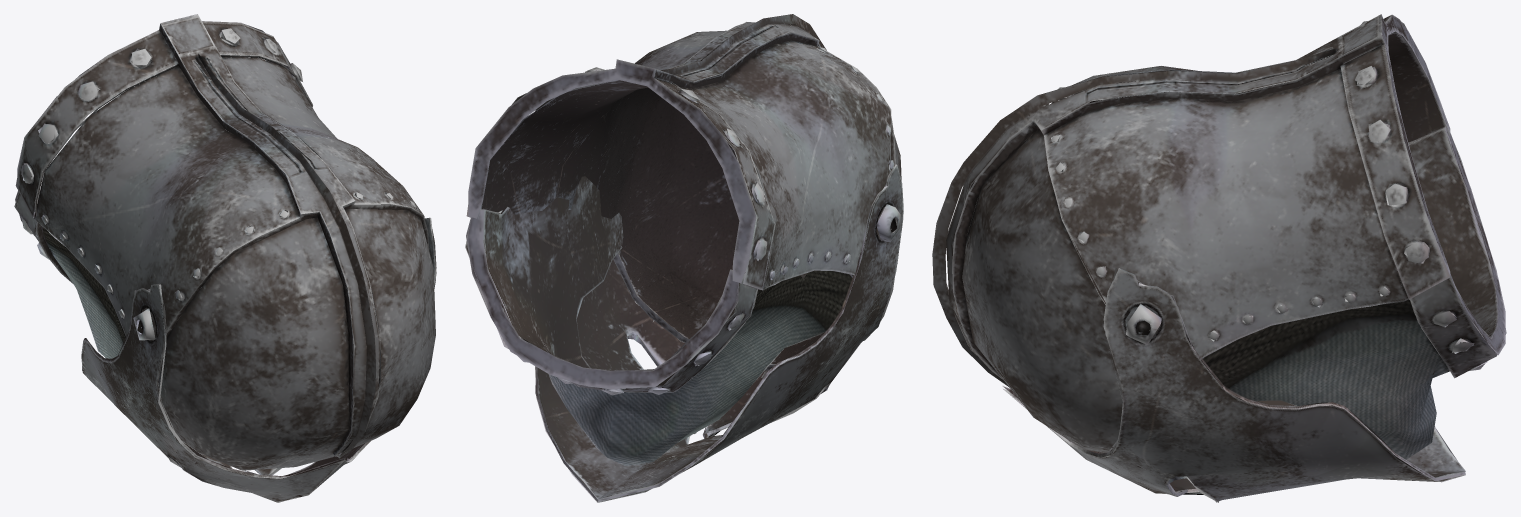
The model's file is murmillo_helmet.glb.
The picture shows the model from 3 angles, left to right: view 1: azimuth 30°, elevation 25°; view 2: azimuth 150°, elevation 25°; view 3: azimuth 270°, elevation 25°; orthographic projection. The views are drawn at different scales.
Visible parts, largest first — view 1: Avant.001_Casque.001_0; view 2: Avant.001_Casque.001_0; view 3: Avant.001_Casque.001_0.
Part boxes in pixels (box(x1,y1,x2,y2)): Avant.001_Casque.001_0: box(14, 14, 436, 502); Avant.001_Casque.001_0: box(465, 14, 903, 502); Avant.001_Casque.001_0: box(932, 14, 1506, 502).
Size of the model in its own units: 0.7752 by 1.06 by 1.17.
1 material, 1 textured.
